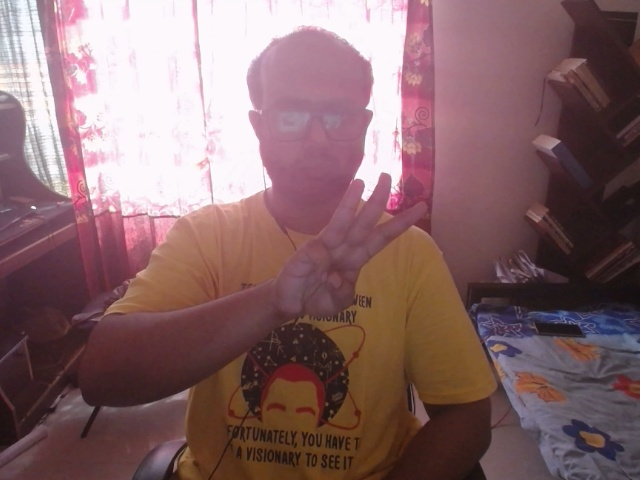three: (271, 146, 449, 345)
